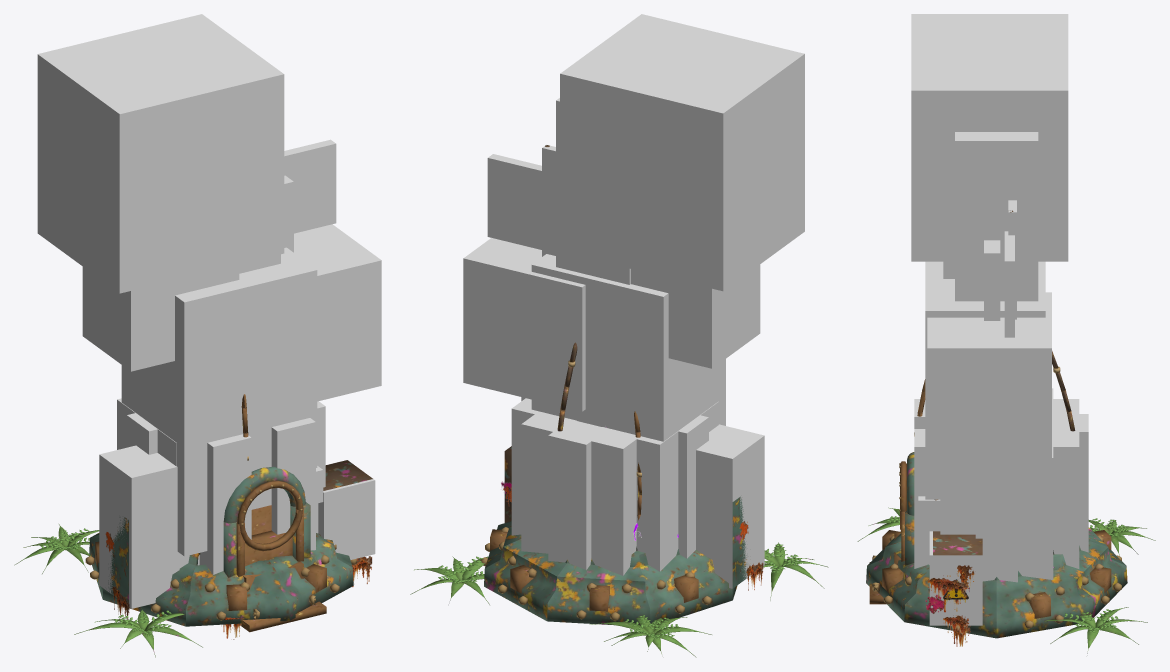
Rendered from comms_tower.glb.
The picture shows the model from 3 angles, left to right: view 1: azimuth 30°, elevation 25°; view 2: azimuth 150°, elevation 25°; view 3: azimuth 270°, elevation 25°; orthographic projection. The views are drawn at different scales.
Parts seen in each view (by area): view 1: col_bld_ROOF_dish_i.002, col_bld_comms_tower_pipes, comms_tower_body_a, col_bld_ROOF_dish_i.004, col_bld_comms_tower_box2, comms_tower_body_b, col_bld_ROOF_dish_i.003, col_bld_comms_tower_base_8, col_bld_SIGN_banner_crown_i.006, col_bld_comms_tower_base_9, col_bld_comms_tower_box, comms_tower_decal (+4 smaller); view 2: col_bld_ROOF_dish_i.002, col_bld_comms_tower_pipes, col_bld_ROOF_dish_i.004, comms_tower_body_a, col_bld_comms_tower_box2, col_bld_ROOF_dish_i.003, comms_tower_body_b, col_bld_comms_tower_base_4, col_bld_comms_tower_base_3, col_bld_comms_tower_base_5, col_bld_SIGN_banner_crown_i.006, col_bld_comms_tower_base_2 (+5 smaller); view 3: col_bld_ROOF_dish_i.002, col_bld_ROOF_dish_i.004, comms_tower_body_b, col_bld_comms_tower_core, col_bld_comms_tower_base_0, col_bld_comms_tower_base_1, col_bld_comms_tower_pipes, col_bld_comms_tower_base_2, col_bld_comms_tower_box, col_bld_comms_tower_base_10, comms_tower_body_a, comms_tower_decal (+6 smaller).
Part boxes in pixels (x1,y1,x2,y2): col_bld_ROOF_dish_i.002: [37, 14, 284, 293]; col_bld_comms_tower_pipes: [121, 247, 317, 556]; comms_tower_body_a: [14, 395, 289, 657]; col_bld_ROOF_dish_i.004: [294, 224, 381, 401]; col_bld_comms_tower_box2: [99, 445, 179, 608]; comms_tower_body_b: [242, 394, 372, 631]; col_bld_ROOF_dish_i.003: [82, 264, 239, 371]; col_bld_comms_tower_base_8: [199, 434, 251, 574]; col_bld_SIGN_banner_crown_i.006: [284, 139, 336, 233]; col_bld_comms_tower_base_9: [271, 418, 315, 550]; col_bld_comms_tower_box: [318, 479, 375, 559]; comms_tower_decal: [105, 532, 372, 639]; col_bld_ROOF_dish_i.002: [560, 14, 804, 291]; col_bld_comms_tower_pipes: [531, 254, 725, 441]; col_bld_ROOF_dish_i.004: [463, 238, 585, 411]; comms_tower_body_a: [547, 411, 828, 657]; col_bld_comms_tower_box2: [696, 424, 764, 588]; col_bld_ROOF_dish_i.003: [631, 264, 760, 368]; comms_tower_body_b: [410, 145, 577, 620]; col_bld_comms_tower_base_4: [585, 427, 638, 575]; col_bld_comms_tower_base_3: [548, 421, 601, 569]; col_bld_comms_tower_base_5: [636, 428, 681, 571]; col_bld_SIGN_banner_crown_i.006: [487, 154, 541, 249]; col_bld_comms_tower_base_2: [521, 411, 576, 553]; col_bld_ROOF_dish_i.002: [911, 14, 1068, 261]; col_bld_ROOF_dish_i.004: [927, 292, 1051, 467]; comms_tower_body_b: [866, 210, 1147, 653]; col_bld_comms_tower_core: [955, 132, 1038, 301]; col_bld_comms_tower_base_0: [975, 468, 1017, 582]; col_bld_comms_tower_base_1: [1018, 441, 1053, 579]; col_bld_comms_tower_pipes: [925, 261, 1045, 553]; col_bld_comms_tower_base_2: [1052, 429, 1079, 568]; col_bld_comms_tower_box: [929, 531, 982, 625]; col_bld_comms_tower_base_10: [940, 468, 975, 534]; comms_tower_body_a: [857, 391, 1155, 565]; comms_tower_decal: [925, 565, 975, 646].
Bounding box in the file's own units: 5.23 × 8.07 × 4.22.
23 materials, 8 textured.
